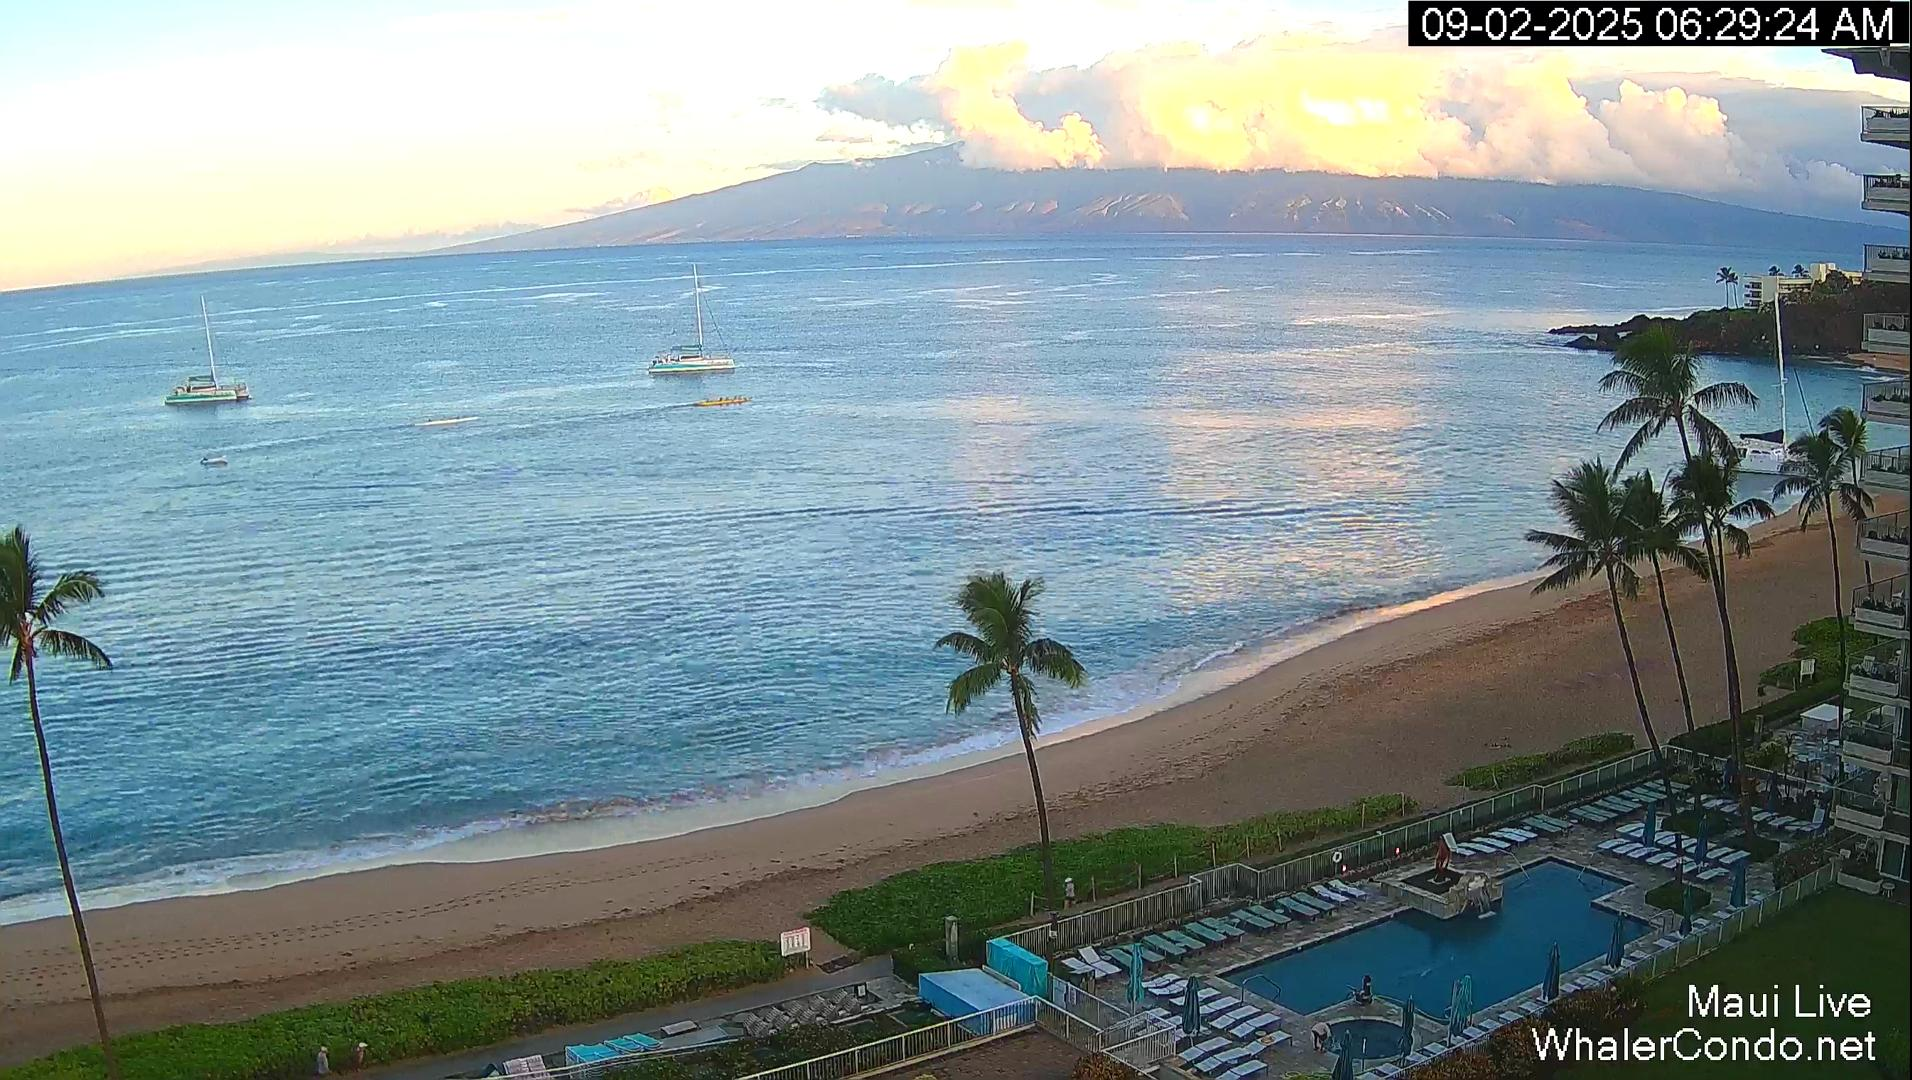boat: (1735, 280, 1796, 474), (647, 264, 737, 376), (164, 294, 252, 406), (418, 414, 481, 426), (692, 397, 751, 407), (201, 456, 228, 466)
